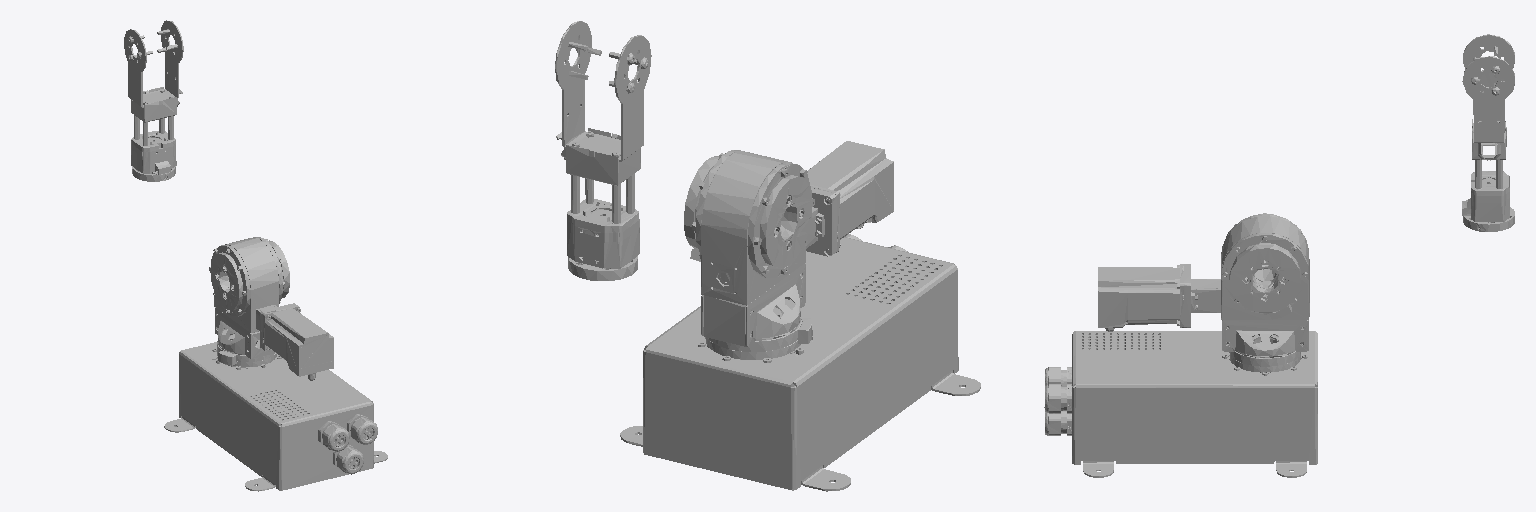
The robot description file, URDF, robot "igus":
<robot
  name="igus">
  <link name="world"/>
  
  <joint name="base_joint" type="fixed">
      <origin xyz="0 0 0" rpy="0 0 0"/>
      <parent link="world"/>
      <child link="base_link"/>
  </joint> 

  <link
    name="base_link">
    <inertial>
      <origin
        xyz="-0.0109646724640338 0.0181005963964137 0.0580436521390208"
        rpy="0 0 0" />
      <mass
        value="1.20032441516592" />
      <inertia
        ixx="0.00931932822114558"
        ixy="-1.87296070673386E-05"
        ixz="0.000116424990597675"
        iyy="0.0105088937752615"
        iyz="0.000376007321160209"
        izz="0.0025711861727553" />
    </inertial>
    <visual>
      <origin
        xyz="0 0 0"
        rpy="0 0 0" />
      <geometry>
        <mesh
          filename="package://igus1_description/meshes/base_link.stl" />
      </geometry>
      <material
        name="">
        <color
          rgba="0.752941176470588 0.752941176470588 0.752941176470588 1" />
      </material>
    </visual>
    <collision>
      <origin
        xyz="0 0 0"
        rpy="0 0 0" />
      <geometry>
        <mesh
          filename="package://igus1_description/meshes/base_link.stl" />
      </geometry>
    </collision>
  </link>
  <link
    name="l1">
    <inertial>
      <origin
        xyz="-0.035649 -0.0020132 0.080145"
        rpy="0 0 0" />
      <mass
        value="0.91354" />
      <inertia
        ixx="0.001296"
        ixy="6.7461E-05"
        ixz="-0.00063703"
        iyy="0.0045748"
        iyz="3.3196E-05"
        izz="0.0039438" />
    </inertial>
    <visual>
      <origin
        xyz="0 0 0"
        rpy="0 0 0" />
      <geometry>
        <mesh
          filename="package://igus1_description/meshes/l1.stl" />
      </geometry>
      <material
        name="">
        <color
          rgba="0.75294 0.75294 0.75294 1" />
      </material>
    </visual>
    <collision>
      <origin
        xyz="0 0 0"
        rpy="0 0 0" />
      <geometry>
        <mesh
          filename="package://igus1_description/meshes/l1.stl" />
      </geometry>
    </collision>
  </link>
  <joint
    name="j1"
    type="continuous">
    <origin
      xyz="0 0 0.0667"
      rpy="6.1232E-17 3.6572E-17 1.5708" />
    <parent
      link="base_link" />
    <child
      link="l1" />
    <axis
      xyz="0 0 1" />
  </joint>
  <link
    name="l2">
    <inertial>
      <origin
        xyz="-0.0024353 0.21014 0.0014343"
        rpy="0 0 0" />
      <mass
        value="0.41527" />
      <inertia
        ixx="0.0027253"
        ixy="-0.00024152"
        ixz="-8.3417E-06"
        iyy="0.00037987"
        iyz="-3.4379E-05"
        izz="0.0028171" />
    </inertial>
    <visual>
      <origin
        xyz="0 0 0"
        rpy="0 0 0" />
      <geometry>
        <mesh
          filename="package://igus1_description/meshes/l2.stl" />
      </geometry>
      <material
        name="">
        <color
          rgba="0.75294 0.75294 0.75294 1" />
      </material>
    </visual>
    <collision>
      <origin
        xyz="0 0 0"
        rpy="0 0 0" />
      <geometry>
        <mesh
          filename="package://igus1_description/meshes/l2.stl" />
      </geometry>
    </collision>
  </link>
  <joint
    name="j2"
    type="revolute">
    <origin
      xyz="0 0 0.1007"
      rpy="1.5708 2.4658E-17 3.1823E-18" />
    <parent
      link="l1" />
    <child
      link="l2" />
    <axis
      xyz="0 0 1" />
    <limit
      lower="-0.174533"
      upper="2.53073"
      effort="0"
      velocity="0" />
  </joint>
  <link
    name="l3">
    <inertial>
      <origin
        xyz="-0.0082989 -0.19368 0.0016276"
        rpy="0 0 0" />
      <mass
        value="0.36638" />
      <inertia
        ixx="0.0015567"
        ixy="-0.00022104"
        ixz="7.2976E-06"
        iyy="0.00030829"
        iyz="2.5709E-05"
        izz="0.001655" />
    </inertial>
    <visual>
      <origin
        xyz="0 0 0"
        rpy="0 0 0" />
      <geometry>
        <mesh
          filename="package://igus1_description/meshes/l3.stl" />
      </geometry>
      <material
        name="">
        <color
          rgba="0.75294 0.75294 0.75294 1" />
      </material>
    </visual>
    <collision>
      <origin
        xyz="0 0 0"
        rpy="0 0 0" />
      <geometry>
        <mesh
          filename="package://igus1_description/meshes/l3.stl" />
      </geometry>
    </collision>
  </link>
  <joint
    name="j3"
    type="revolute">
    <origin
      xyz="0.016 0.26953 0"
      rpy="0 0 1.5708" />
    <parent
      link="l2" />
    <child
      link="l3" />
    <axis
      xyz="0 0 1" />
    <limit
      lower="-0.261799"
      upper="2.53073"
      effort="0"
      velocity="0" />
  </joint>
  <link
    name="l4">
    <inertial>
      <origin
        xyz="0.00012521 -0.13067 -0.00012391"
        rpy="0 0 0" />
      <mass
        value="0.15709" />
      <inertia
        ixx="0.00053562"
        ixy="-2.3502E-07"
        ixz="-1.4894E-08"
        iyy="8.2828E-05"
        iyz="6.2888E-07"
        izz="0.0005109" />
    </inertial>
    <visual>
      <origin
        xyz="0 0 0"
        rpy="0 0 0" />
      <geometry>
        <mesh
          filename="package://igus1_description/meshes/l4.stl" />
      </geometry>
      <material
        name="">
        <color
          rgba="0.75294 0.75294 0.75294 1" />
      </material>
    </visual>
    <collision>
      <origin
        xyz="0 0 0"
        rpy="0 0 0" />
      <geometry>
        <mesh
          filename="package://igus1_description/meshes/l4.stl" />
      </geometry>
    </collision>
  </link>
  <joint
    name="j4"
    type="revolute">
    <origin
      xyz="-0.025 -0.23869 0"
      rpy="0 0 -1.5708" />
    <parent
      link="l3" />
    <child
      link="l4" />
    <axis
      xyz="0 0 1" />
    <limit
      lower="-0.261799"
      upper="2.53073"
      effort="0"
      velocity="0" />
  </joint>
  <joint name="ee_joint" type="continuous">
      <parent link="l4" />
      <child link = "ee_link" />
      <origin xyz="0 -0.19 0" rpy="0.0 0.0 1.57" />
  </joint>

  <link name="ee_link">
      <collision>
        <geometry>
          <box size="0.01 0.01 0.01"/>
        </geometry>
        <origin rpy="0 0 0" xyz="0 0 0"/>
      </collision>
</link>
</robot>

--- Render facts (derived) ---
The picture shows the robot from 3 angles, left to right: view 1: azimuth 30°, elevation 25°; view 2: azimuth 150°, elevation 25°; view 3: azimuth 270°, elevation 25°; orthographic projection.
Model igus with 7 links and 6 joints (3 revolute, 2 continuous, 1 fixed), rooted at world, posed every joint at zero.
Links seen in each view (by area): view 1: base_link, l1, l4; view 2: base_link, l1, l4; view 3: base_link, l1, l4.
Boxes of the visible links, x1,y1,x2,y2 form: base_link: [164, 340, 387, 491]; l1: [209, 237, 333, 380]; l4: [124, 20, 183, 181]; base_link: [620, 234, 980, 491]; l1: [684, 141, 893, 346]; l4: [555, 21, 651, 280]; base_link: [1044, 331, 1317, 477]; l1: [1098, 213, 1309, 357]; l4: [1462, 34, 1514, 231].
Size in the robot's own frame: 0.2202 by 0.5364 by 0.4923 metres.
3 mesh visuals loaded from 5 distinct referenced files (3 binary STL); not drawn: 2 (reference not matched to a file when rendering).